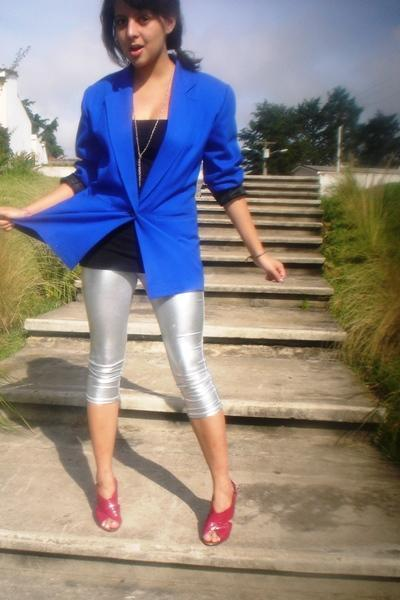jacket: (12, 63, 255, 297)
pants: (72, 263, 223, 419)
shirt: (84, 120, 167, 272)
shoe: (91, 493, 233, 545)
